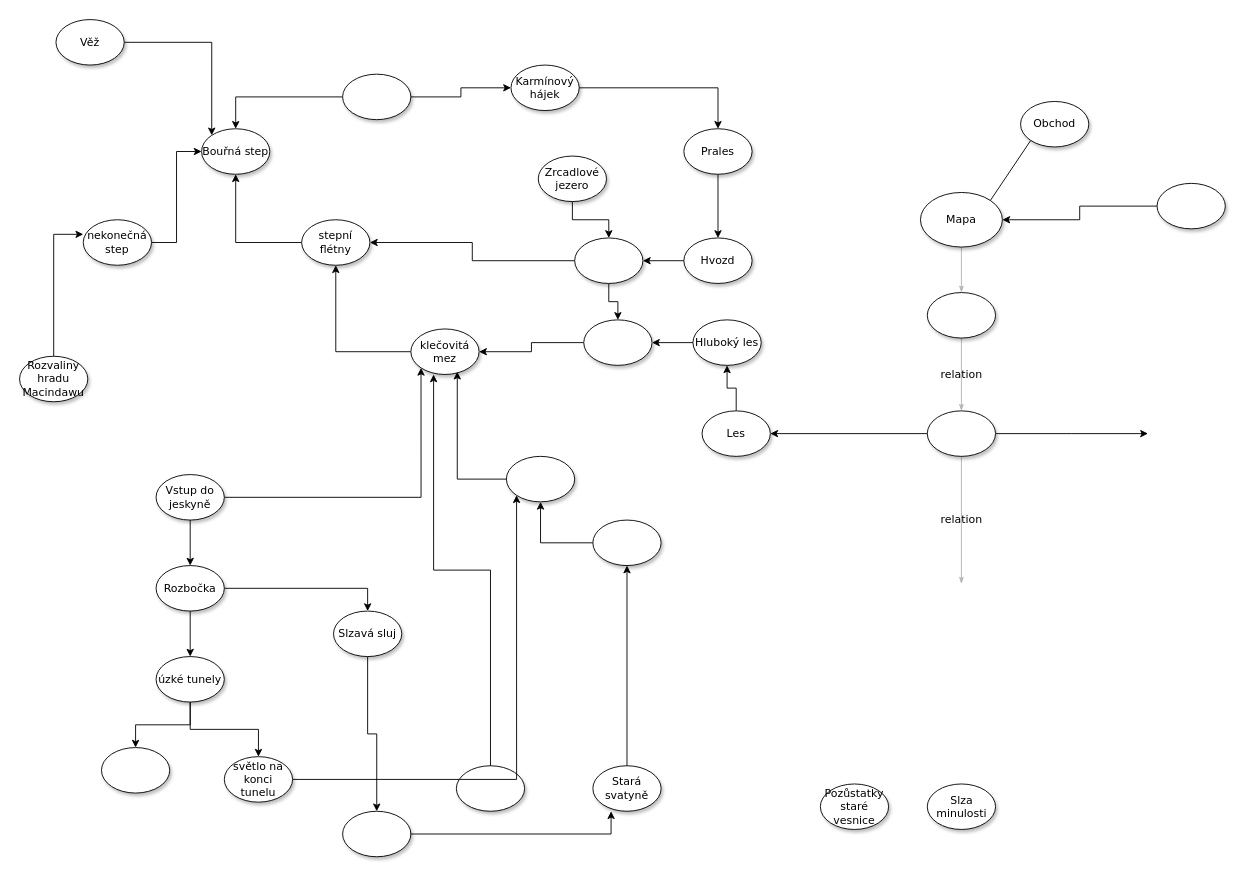
The diagram is 1247 pixels wide and 879 high, and some of its shapes have lost their labels. The centre of each missing label's shape, as x and y in pixels:
Dům: (x=1192, y=207)
exit z města: (x=962, y=316)
Karmínová louka: (x=377, y=98)
krystalová sluj: (x=377, y=835)
Lavinové útesy: (x=627, y=544)
Ledová stěna: (x=541, y=480)
Lesní potok: (x=618, y=343)
Ozvěnová jeskyně: (x=136, y=771)
Rozbořený chrám: (x=491, y=789)
rozcestí: (x=962, y=434)
Stříbrná řeka: (x=609, y=261)
